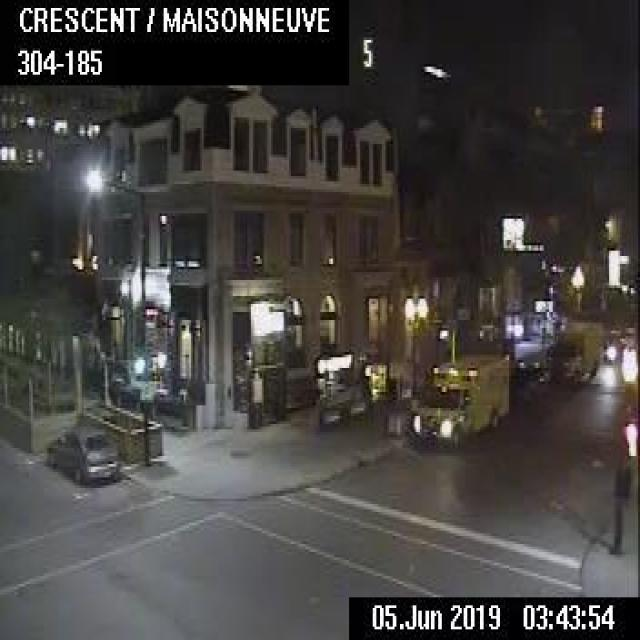vehicle: (409, 349, 509, 448), (45, 422, 120, 480), (548, 320, 601, 384), (511, 356, 545, 390), (601, 335, 621, 362)
